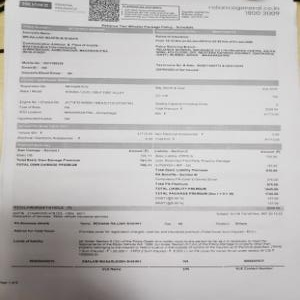table: (14, 141, 284, 206), (16, 21, 278, 81)
